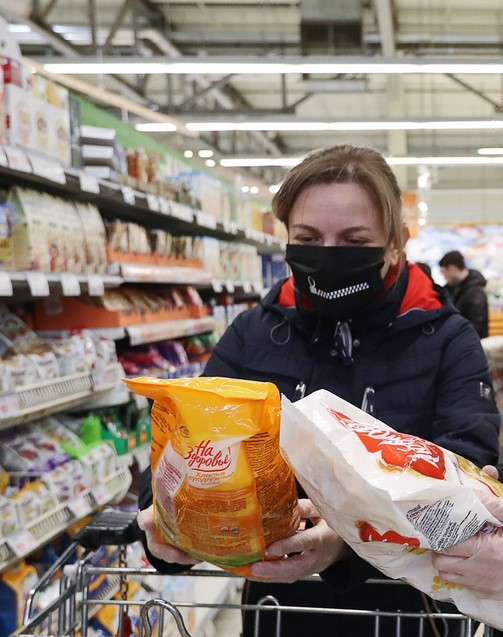face_with_mask: (275, 144, 411, 315)
